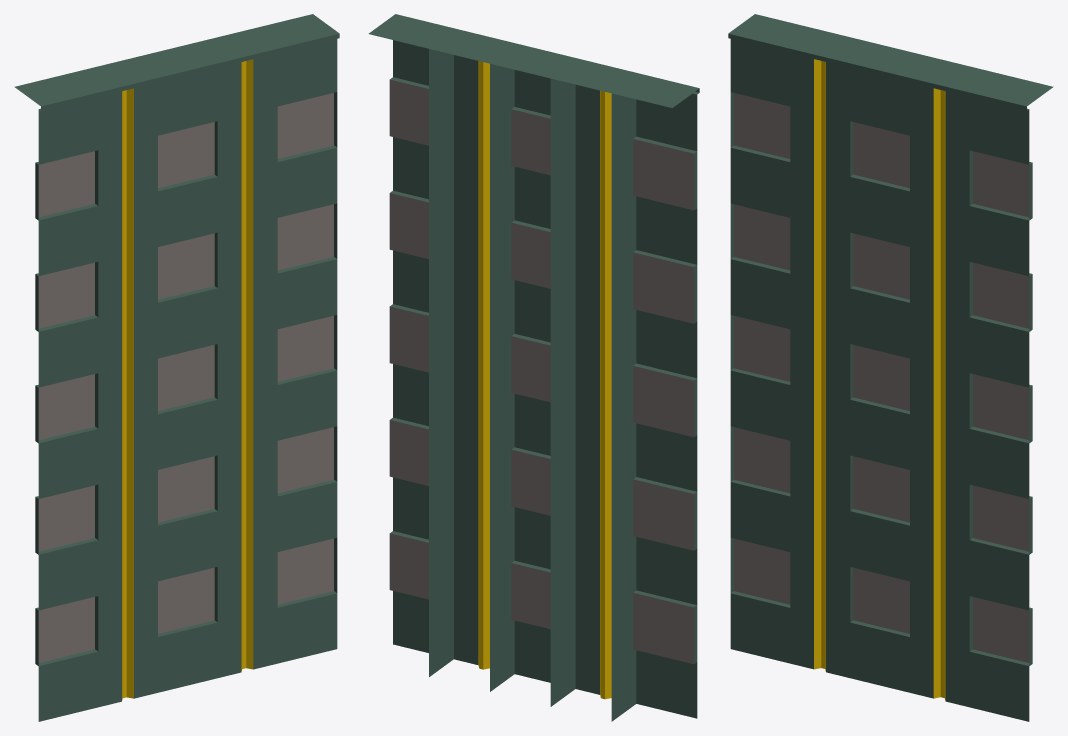
3 renders of one model, left to right at view 1: azimuth 30°, elevation 25°; view 2: azimuth 150°, elevation 25°; view 3: azimuth 330°, elevation 25°, orthographic.
Parts seen in each view (by area): view 1: Pared.Win.x4.014; view 2: Pared.Win.x4.014; view 3: Pared.Win.x4.014.
Part boxes in pixels (box(x1,y1,x2,y2)): Pared.Win.x4.014: box(14, 14, 339, 721); Pared.Win.x4.014: box(368, 14, 699, 721); Pared.Win.x4.014: box(728, 14, 1053, 721).
Size of the model in its own units: 1392 by 2749 by 217.
